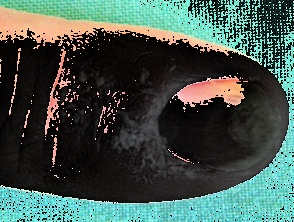Nail_psoriasis: (5, 40, 291, 203)
